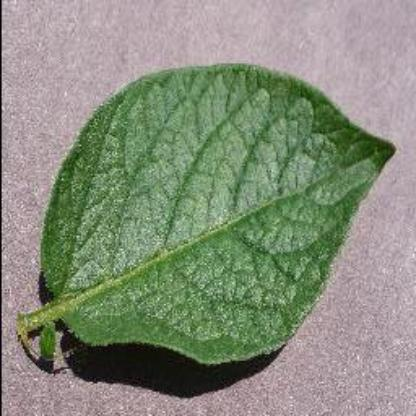Healthy-plant: (20, 47, 398, 384)
